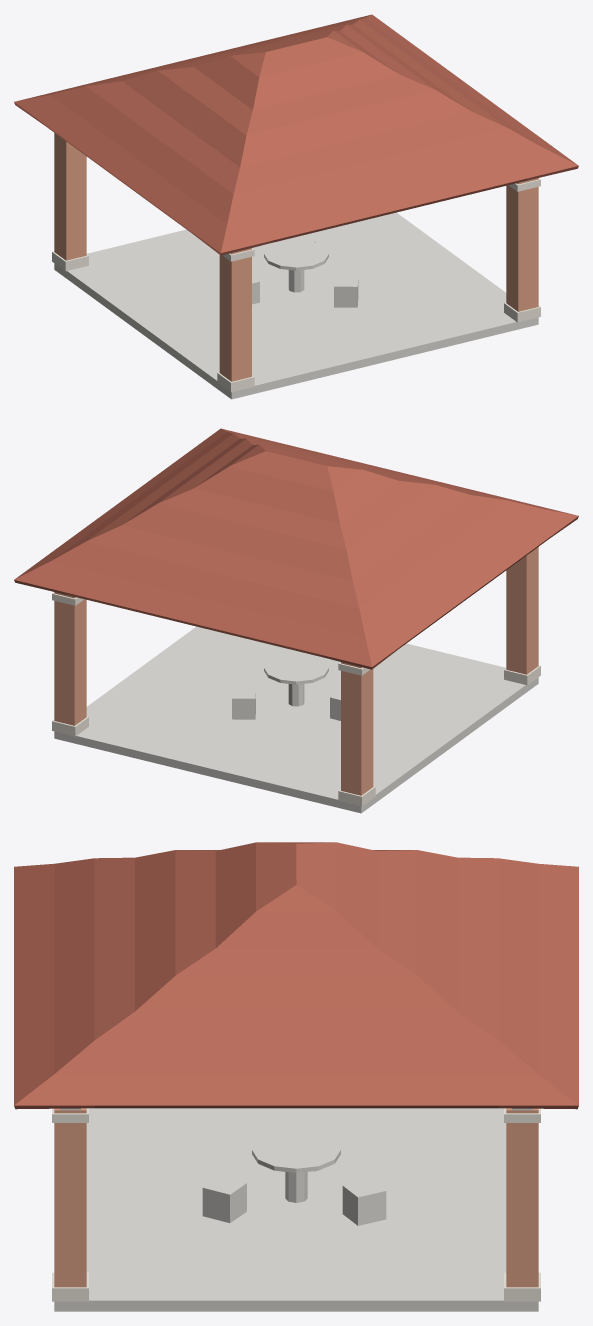
Rendered from ten.glb.
The picture shows the model from 3 angles, top to bottom: view 1: azimuth 30°, elevation 25°; view 2: azimuth 150°, elevation 25°; view 3: azimuth 270°, elevation 25°; orthographic projection. The views are drawn at different scales.
Visible parts, largest first — view 1: ten_sala; view 2: ten_sala; view 3: ten_sala.
Part boxes in pixels (x1,y1,x2,y2): ten_sala: [14, 14, 578, 399]; ten_sala: [14, 428, 578, 813]; ten_sala: [14, 842, 578, 1311].
Size of the model in its own units: 7 by 4.72 by 7.
